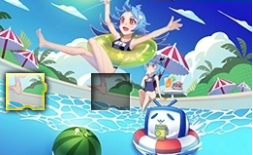gap: (91, 72, 133, 111)
